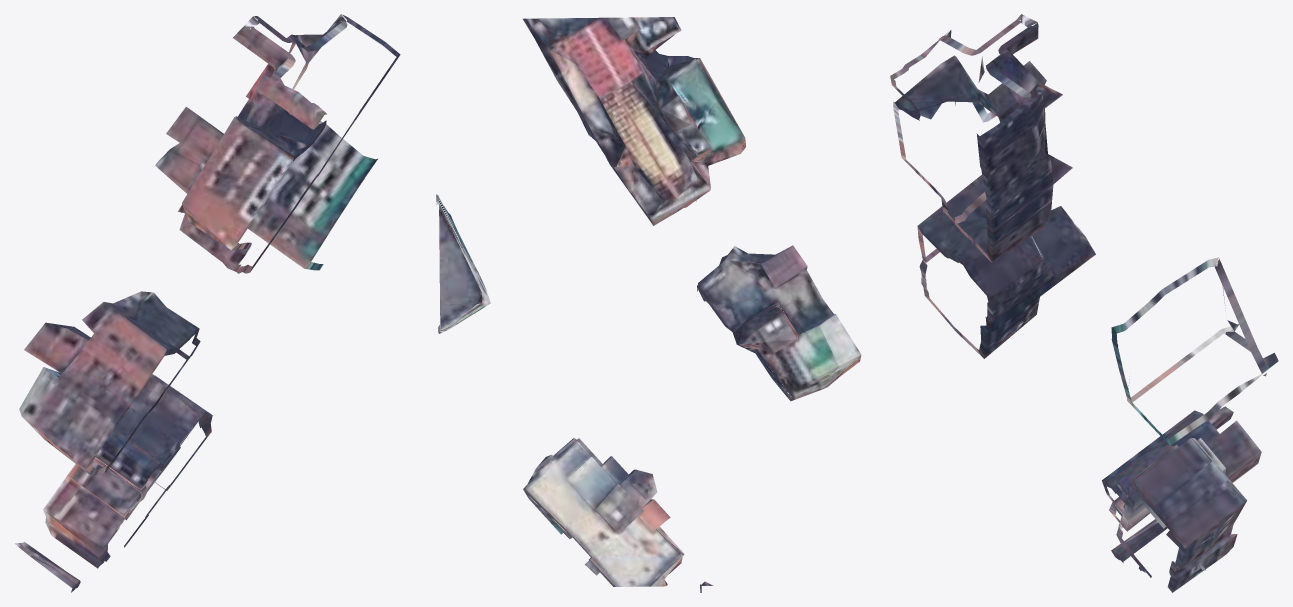
3 views of the same model, side by side, from view 1: azimuth 30°, elevation 25°; view 2: azimuth 150°, elevation 25°; view 3: azimuth 270°, elevation 25° (orthographic). The views are drawn at different scales.
Bounding box in the file's own units: 58.49 × 76.46 × 43.99.
Materials: 1 (1 with a texture image).
